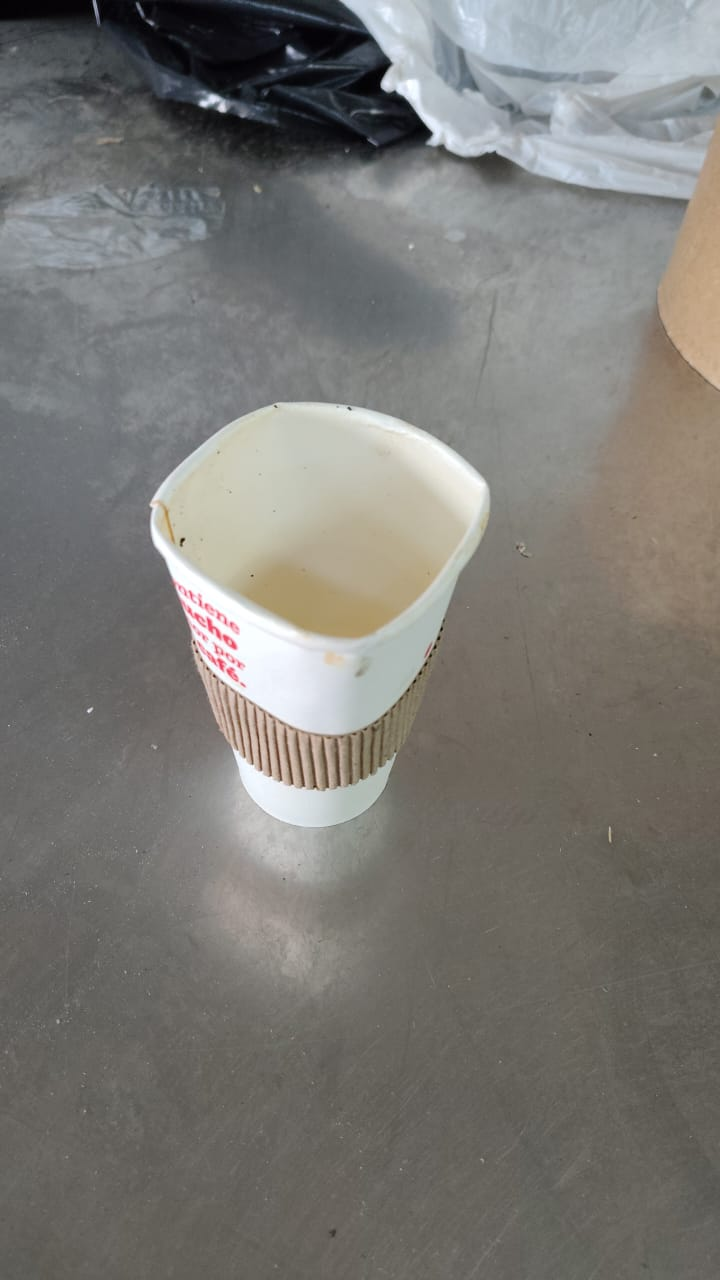Carton: (145, 398, 495, 832)
